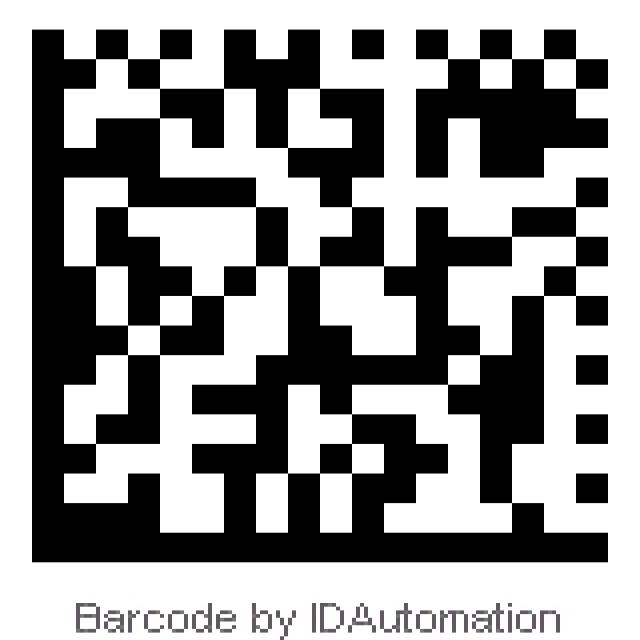datamatrix: (16, 15, 624, 573)
